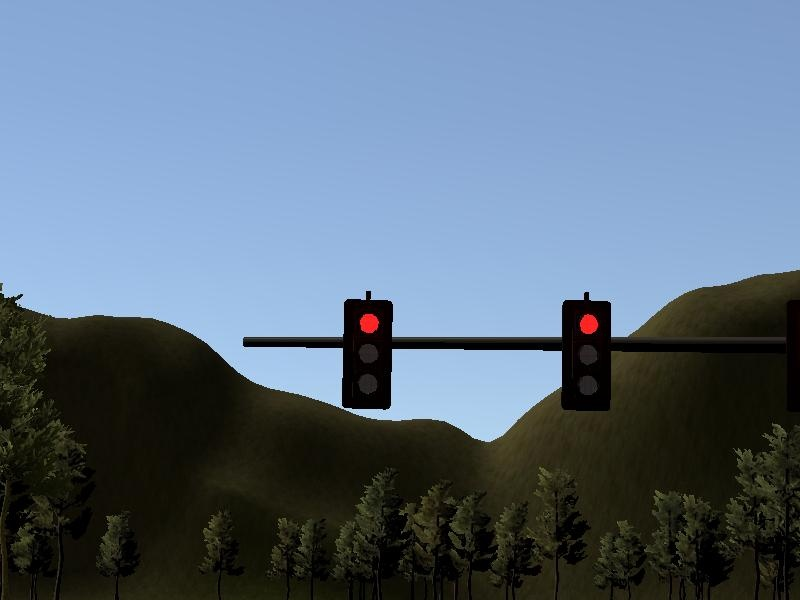red: (559, 300, 613, 416), (339, 297, 395, 407)
